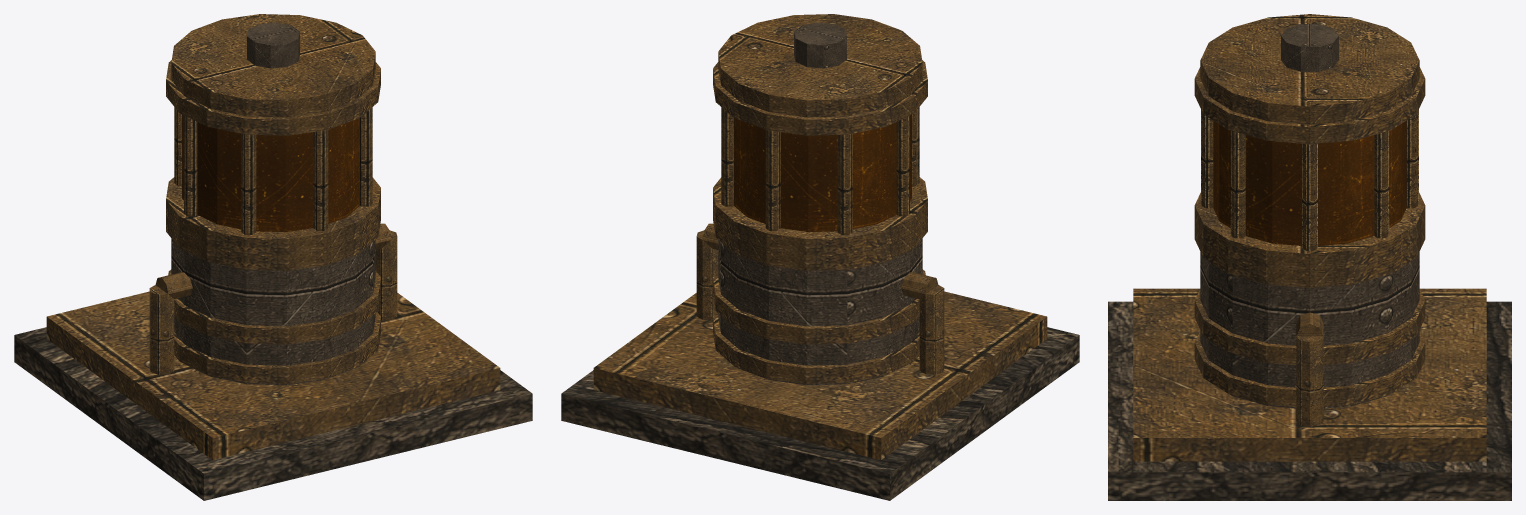
Rendered from last-warm-vent-altar.glb.
3 views of the same model, side by side, from view 1: azimuth 30°, elevation 25°; view 2: azimuth 150°, elevation 25°; view 3: azimuth 270°, elevation 25° (orthographic). The views are drawn at different scales.
Visible parts, largest first — view 1: last-warm-vent-altar; view 2: last-warm-vent-altar; view 3: last-warm-vent-altar.
Boxes of the visible parts, box(x1,y1,x2,y2) form: last-warm-vent-altar: box(14, 14, 532, 500); last-warm-vent-altar: box(561, 14, 1079, 500); last-warm-vent-altar: box(1108, 14, 1511, 500).
Bounding box in the file's own units: 2.8 × 2.91 × 2.8.
Materials: 1 (1 with a texture image).
